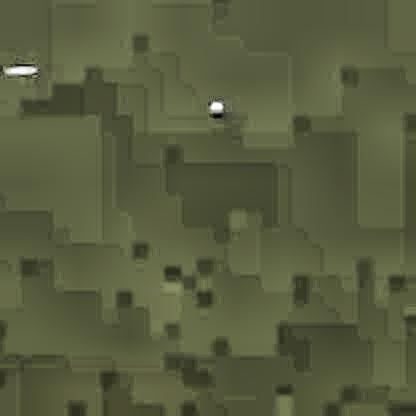golfball: (206, 98, 221, 115)
